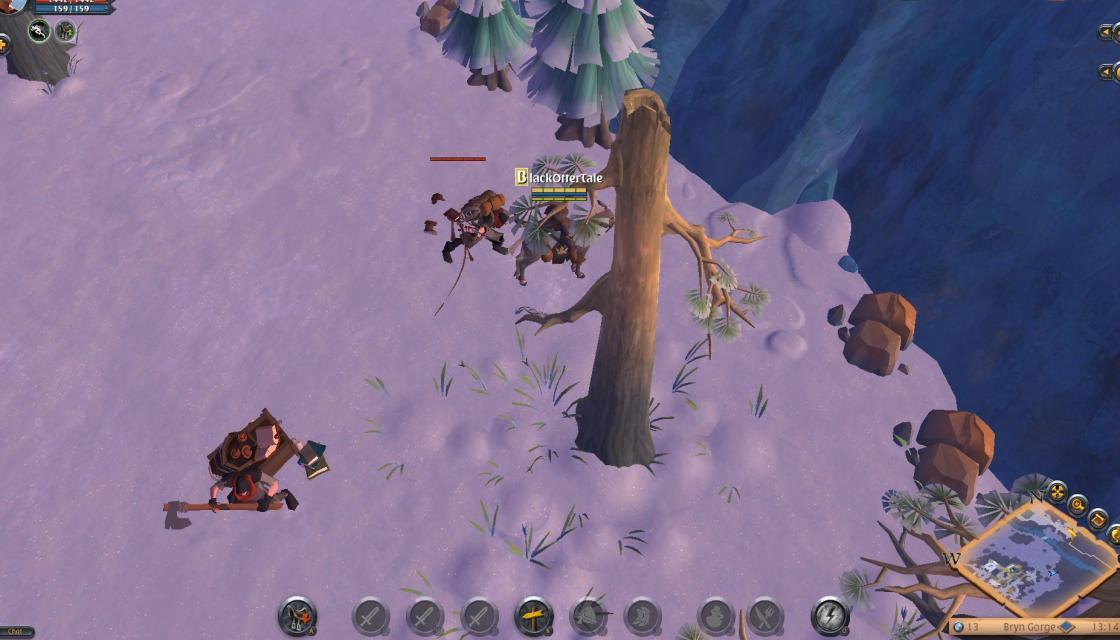limestone: (900, 399, 994, 502), (839, 288, 918, 375), (418, 0, 460, 32)
